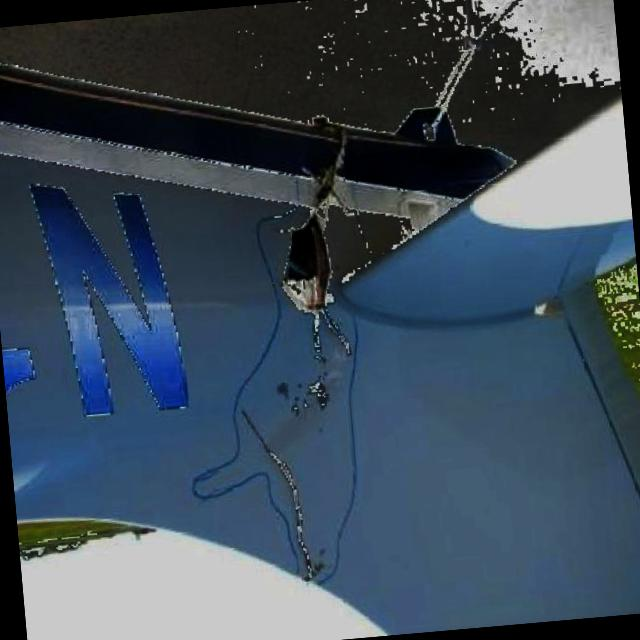crack: (248, 407, 321, 568)
